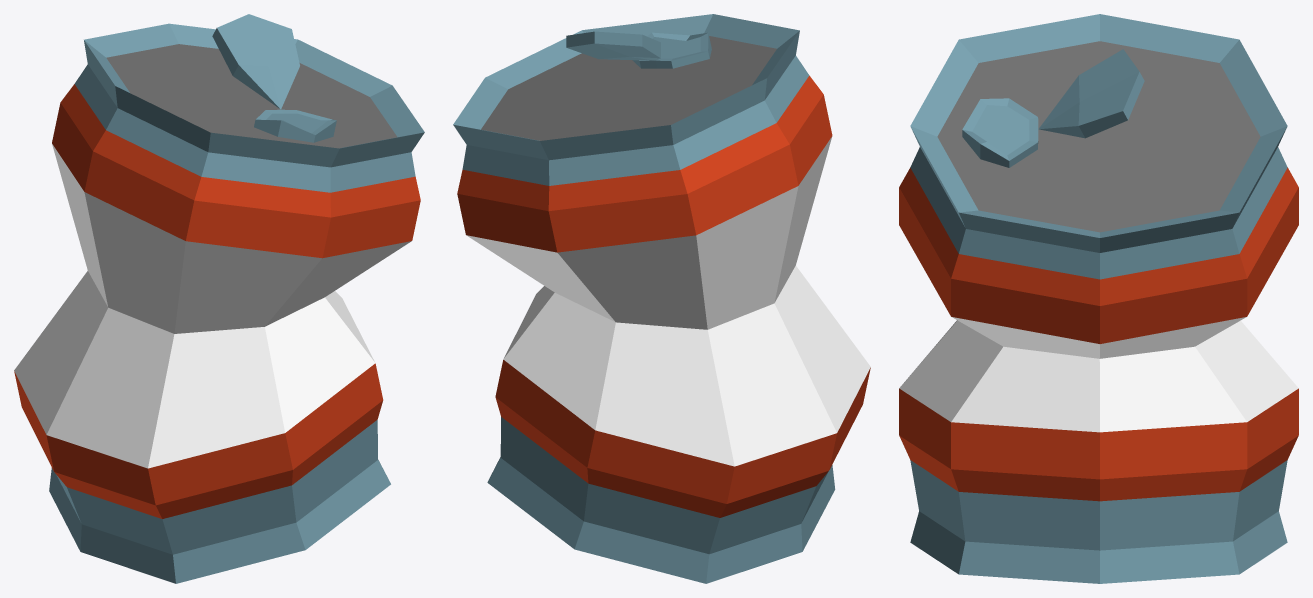
File: Empty Soda.fbx
The picture shows the model from 3 angles, left to right: view 1: azimuth 30°, elevation 25°; view 2: azimuth 150°, elevation 25°; view 3: azimuth 270°, elevation 25°; orthographic projection. The views are drawn at different scales.
Visible parts, largest first — view 1: Empty Soda; view 2: Empty Soda; view 3: Empty Soda.
Part boxes in pixels (x1=…): Empty Soda: x1=14, y1=14, x2=424, y2=583; Empty Soda: x1=453, y1=14, x2=870, y2=583; Empty Soda: x1=899, y1=14, x2=1298, y2=583.
Bounding box in the file's own units: 6.81 × 9.03 × 6.16.
